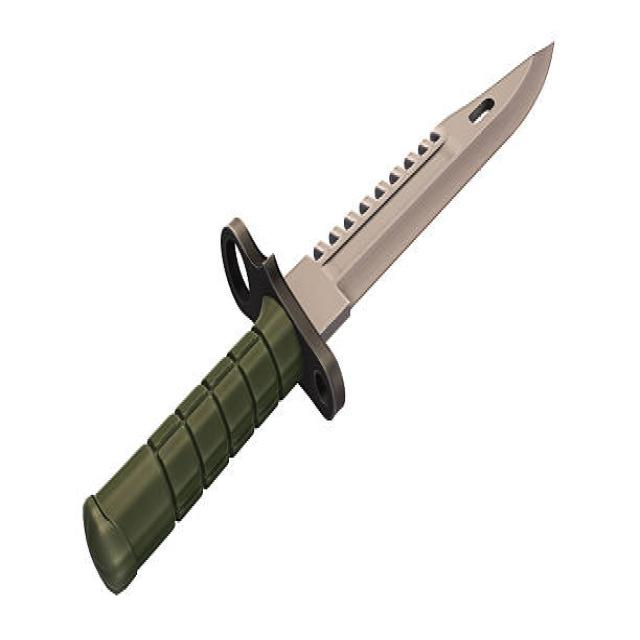knife: (76, 31, 564, 619)
